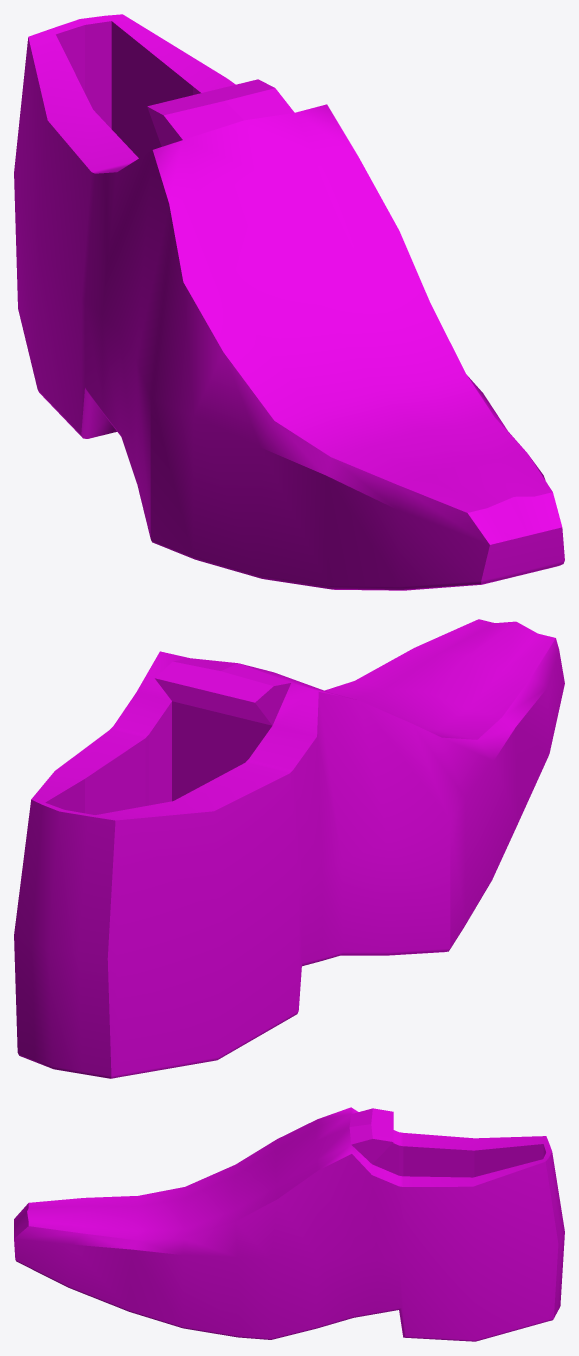
The model's file is Sapato2.fbx.
3 views of the same model, one above another, from view 1: azimuth 30°, elevation 25°; view 2: azimuth 150°, elevation 25°; view 3: azimuth 270°, elevation 25° (orthographic). The views are drawn at different scales.
Visible parts, largest first — view 1: pCube1; view 2: pCube1; view 3: pCube1.
Part boxes in pixels (bbox=[...]): pCube1: bbox=[14, 14, 564, 590]; pCube1: bbox=[14, 619, 564, 1078]; pCube1: bbox=[14, 1107, 564, 1341].
Bounding box in the file's own units: 2.31 × 2.77 × 7.29.
